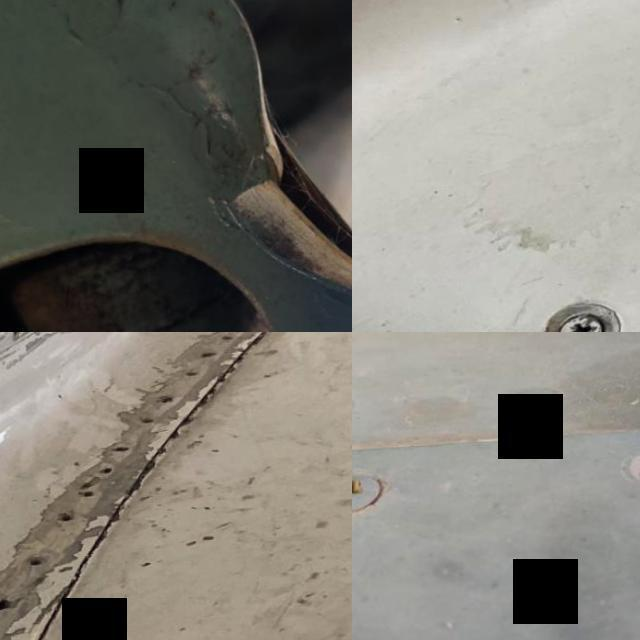Crack: (213, 152, 306, 230)
Missing_Fastener: (607, 428, 640, 514), (0, 593, 23, 616), (28, 556, 57, 572), (107, 441, 139, 454), (60, 512, 84, 528), (141, 416, 164, 432), (102, 464, 120, 480)
